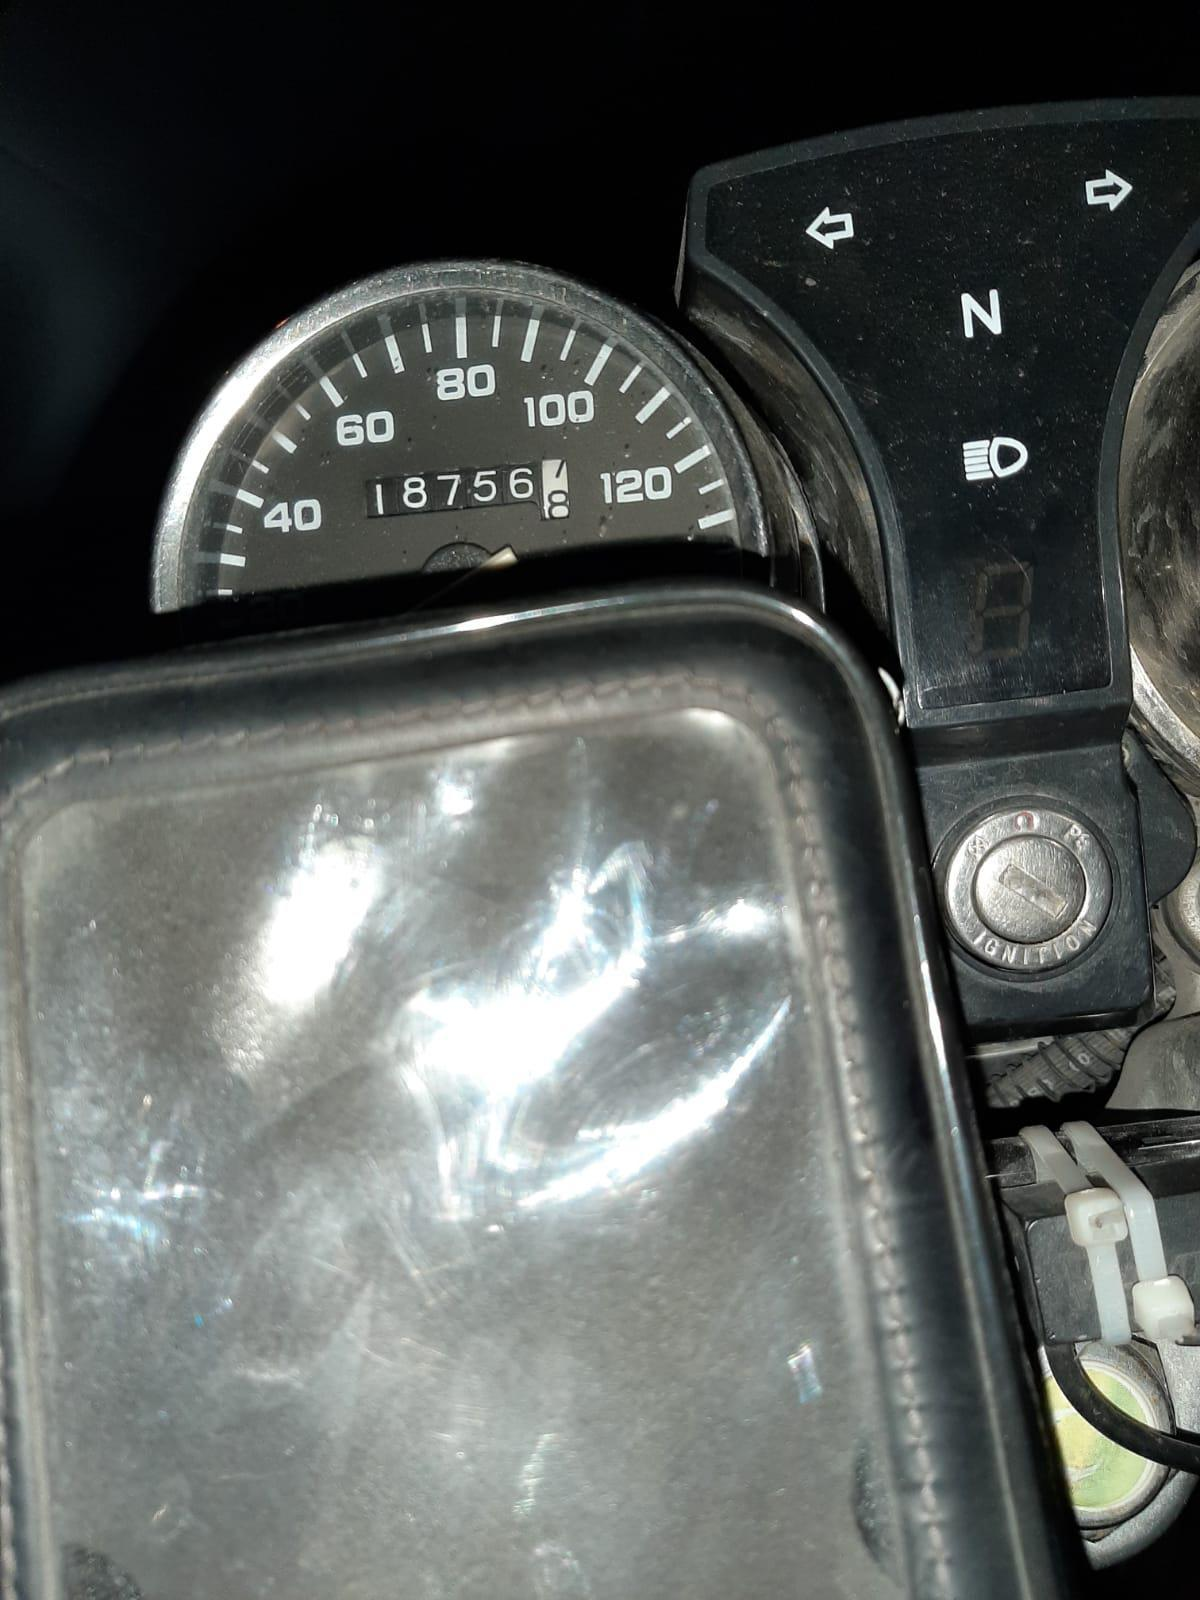1: (371, 476, 388, 522)
5: (473, 465, 498, 501)
6: (509, 462, 536, 501)
7: (437, 470, 465, 506)
8: (401, 472, 430, 517), (542, 488, 574, 527)
odometer: (355, 455, 592, 535)
